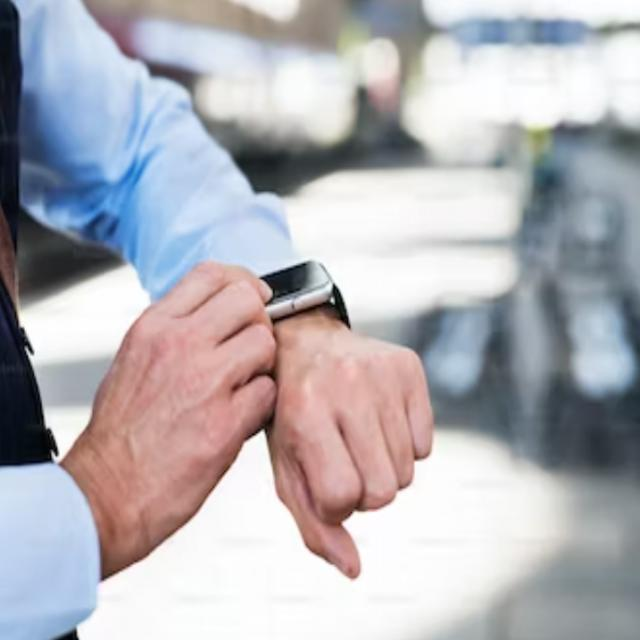Watch: (254, 256, 350, 334)
